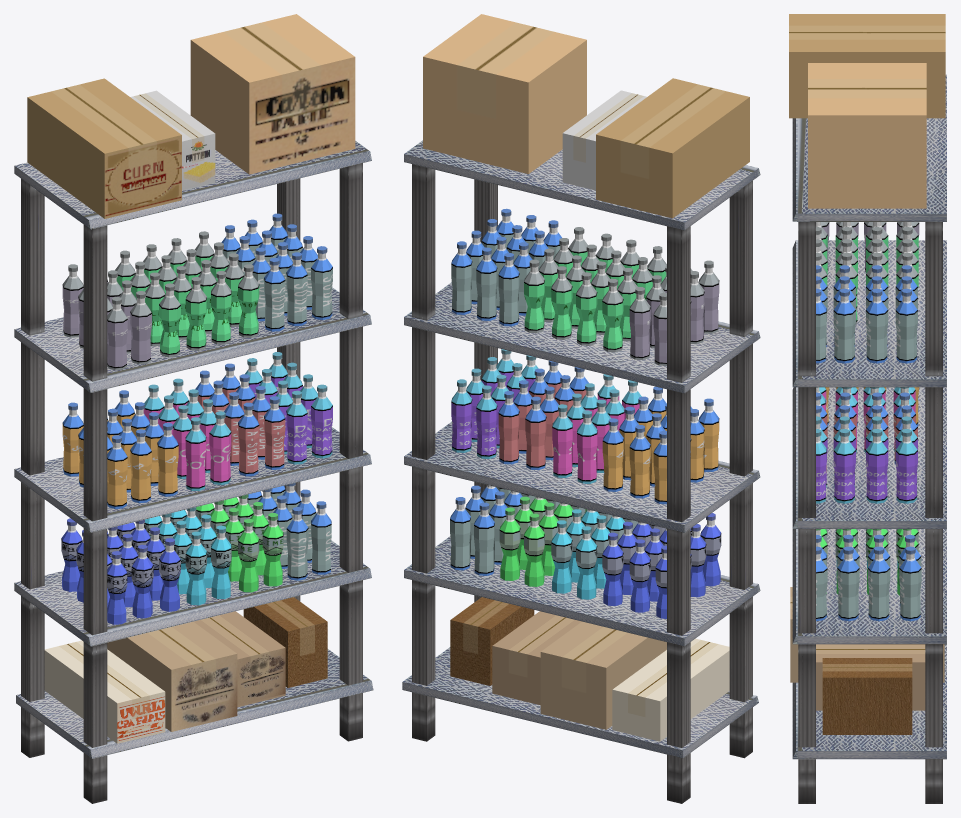
File: shelf.FBX
3 views of the same model, side by side, from view 1: azimuth 30°, elevation 25°; view 2: azimuth 150°, elevation 25°; view 3: azimuth 270°, elevation 25° (orthographic).
Visible parts, largest first — view 1: 紙箱006, 紙箱004, 腳架002, 腳架003, 腳架, 紙箱001, 板架002, 板架003, 板架001, 紙箱, 板架, 板架004 (+49 smaller); view 2: 紙箱006, 紙箱004, 腳架, 腳架001, 腳架002, 板架002, 板架003, 板架001, 紙箱001, 板架, 板架004, 紙箱 (+55 smaller); view 3: 紙箱006, 紙箱004, 腳架001, 腳架003, 板架003, 板架002, 板架001, 紙箱003, 板架004, 板架, 紙箱002, 礦泉水047 (+35 smaller).
Boxes of the visible parts, left/top/right/bottom form: 紙箱006: left=190, top=14, right=355, bottom=174; 紙箱004: left=27, top=78, right=181, bottom=218; 腳架002: left=83, top=225, right=107, bottom=803; 腳架003: left=339, top=163, right=362, bottom=741; 腳架: left=21, top=179, right=44, bottom=757; 紙箱001: left=107, top=621, right=237, bottom=731; 板架002: left=14, top=427, right=371, bottom=532; 板架003: left=14, top=287, right=371, bottom=392; 板架001: left=14, top=540, right=371, bottom=646; 紙箱: left=44, top=640, right=165, bottom=743; 板架: left=16, top=649, right=373, bottom=758; 板架004: left=14, top=141, right=371, bottom=229; 紙箱006: left=423, top=14, right=586, bottom=173; 紙箱004: left=596, top=78, right=749, bottom=218; 腳架: left=667, top=226, right=690, bottom=803; 腳架001: left=412, top=164, right=435, bottom=741; 腳架002: left=729, top=181, right=752, bottom=758; 板架002: left=404, top=421, right=760, bottom=532; 板架003: left=404, top=282, right=760, bottom=393; 板架001: left=404, top=536, right=760, bottom=646; 紙箱001: left=540, top=621, right=666, bottom=729; 板架: left=402, top=647, right=758, bottom=758; 板架004: left=404, top=140, right=760, bottom=230; 紙箱: left=612, top=638, right=729, bottom=741; 紙箱006: left=808, top=63, right=926, bottom=208; 紙箱004: left=789, top=14, right=945, bottom=118; 腳架001: left=925, top=222, right=942, bottom=803; 腳架003: left=798, top=222, right=815, bottom=803; 板架003: left=792, top=240, right=946, bottom=387; 板架002: left=792, top=387, right=946, bottom=528; 板架001: left=792, top=529, right=946, bottom=644; 紙箱003: left=822, top=658, right=912, bottom=734; 板架004: left=792, top=74, right=946, bottom=221; 板架: left=792, top=644, right=946, bottom=759; 紙箱002: left=816, top=644, right=925, bottom=710; 礦泉水047: left=837, top=546, right=859, bottom=621.
Bounding box in the file's own units: 568 × 1301 × 271.
19 materials, 19 textured.
